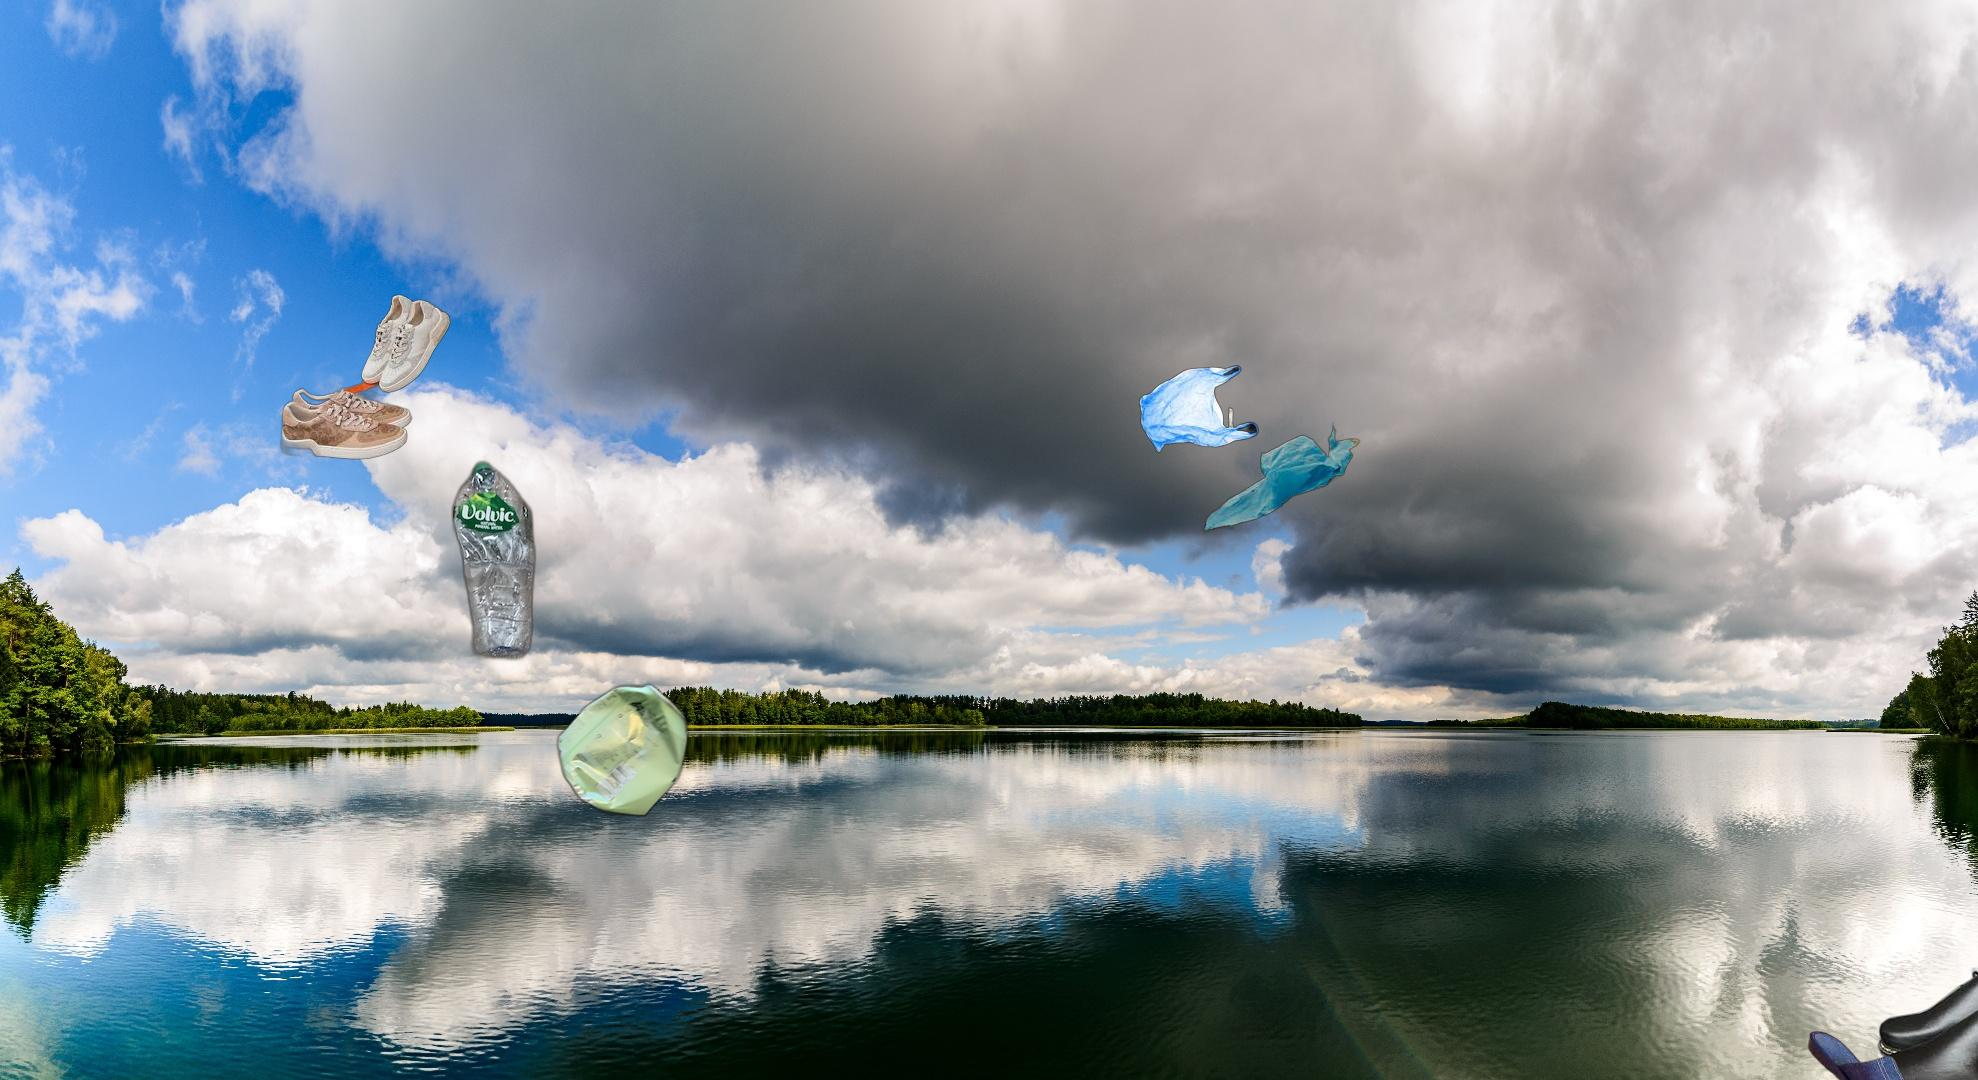metal-cans: (553, 678, 693, 822)
plastic-bag: (1137, 362, 1363, 548)
plastic-bottles: (447, 455, 538, 666)
shoes: (261, 293, 453, 462), (1865, 958, 1978, 1080), (1751, 1028, 1943, 1080)
